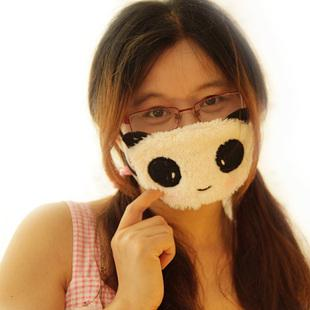OK: (129, 74, 258, 203)
